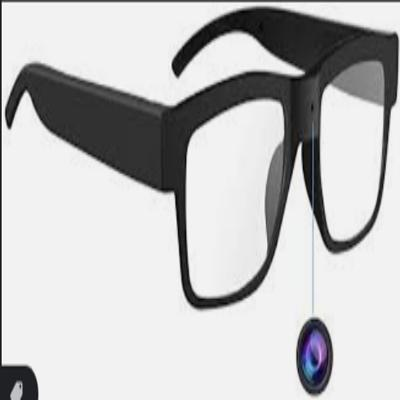glasses: (5, 5, 400, 310)
